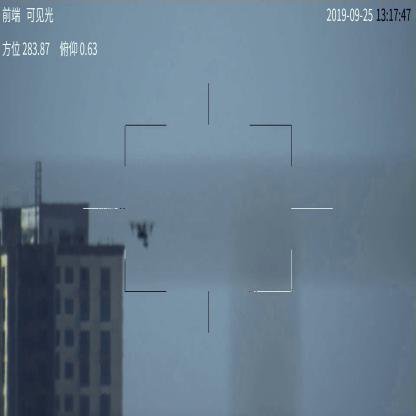uav: (128, 218, 156, 249)
